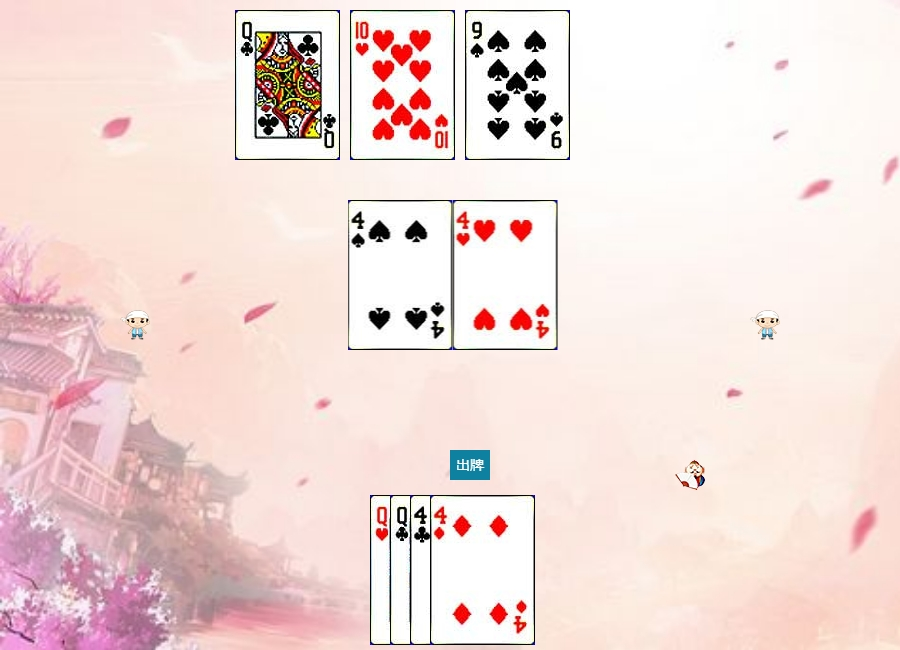10~3: (350, 10, 455, 160)
12~2: (235, 10, 340, 160), (390, 495, 495, 645)
12~3: (370, 495, 475, 645)
4~1: (430, 495, 535, 645)
4~2: (410, 495, 515, 645)
4~3: (453, 200, 558, 350)
4~4: (348, 200, 453, 350)
9~4: (465, 10, 570, 160)
